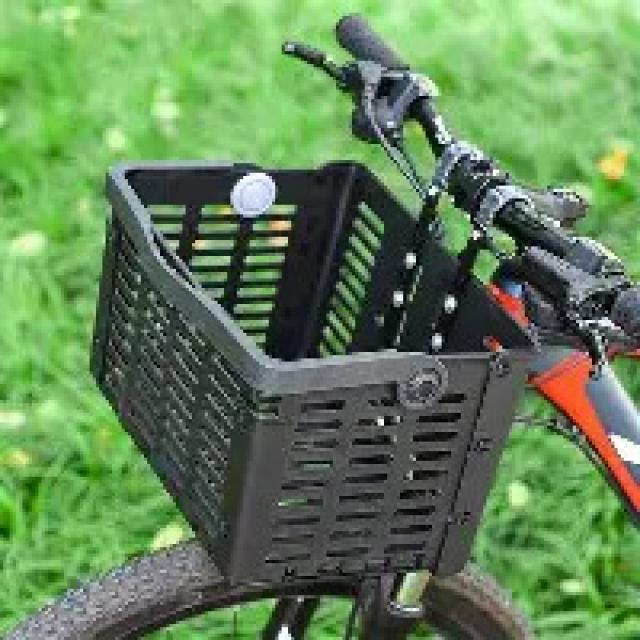basket: (81, 150, 537, 586)
